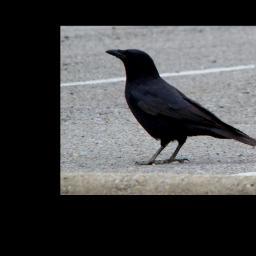Crow: (105, 48, 256, 165)
